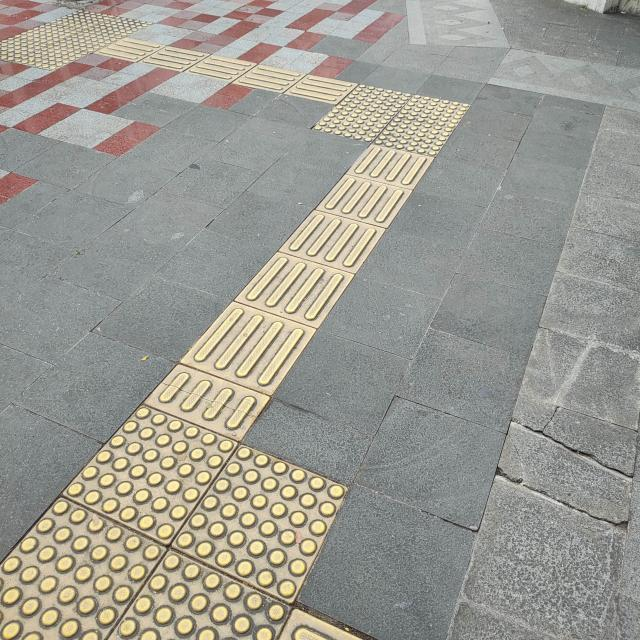kiri: (263, 27, 475, 194)
